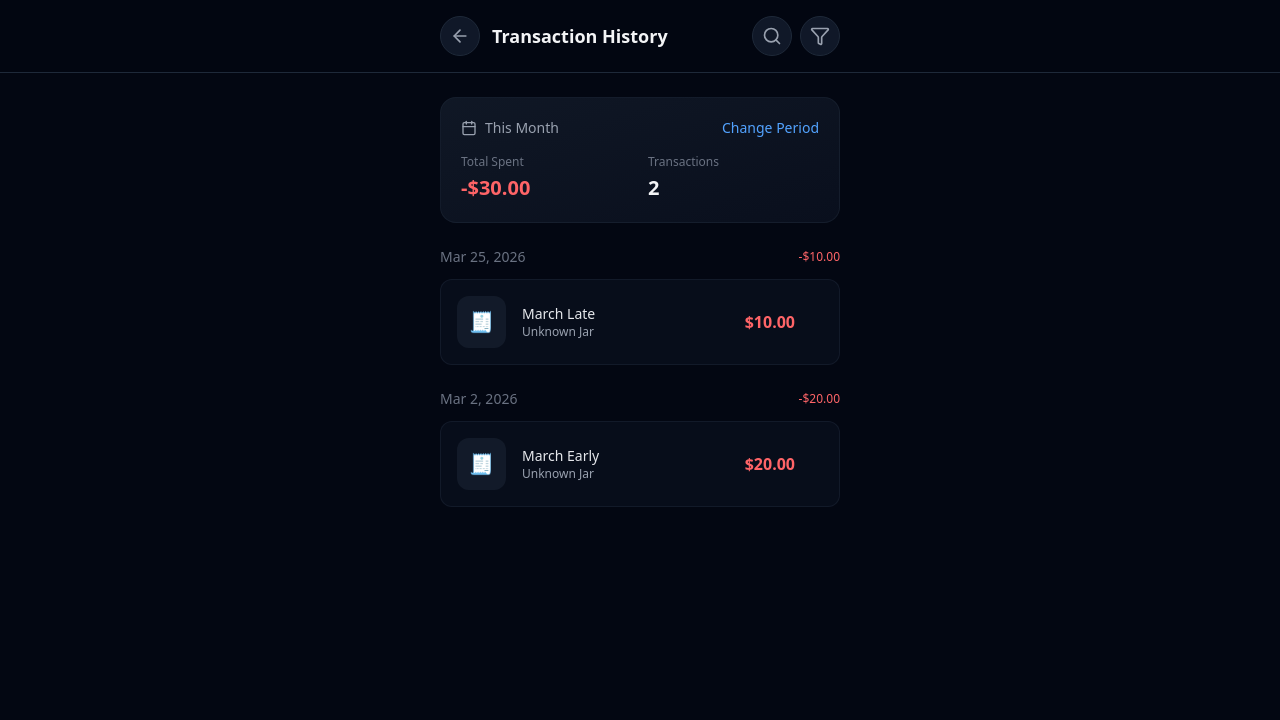
Scenario: TransactionHistory period selection › keeps the previously applied period visible until a custom range is applied
Step 1. Click the button "Change Period" → (770, 128), box x1=722 y1=118 x2=819 y2=138
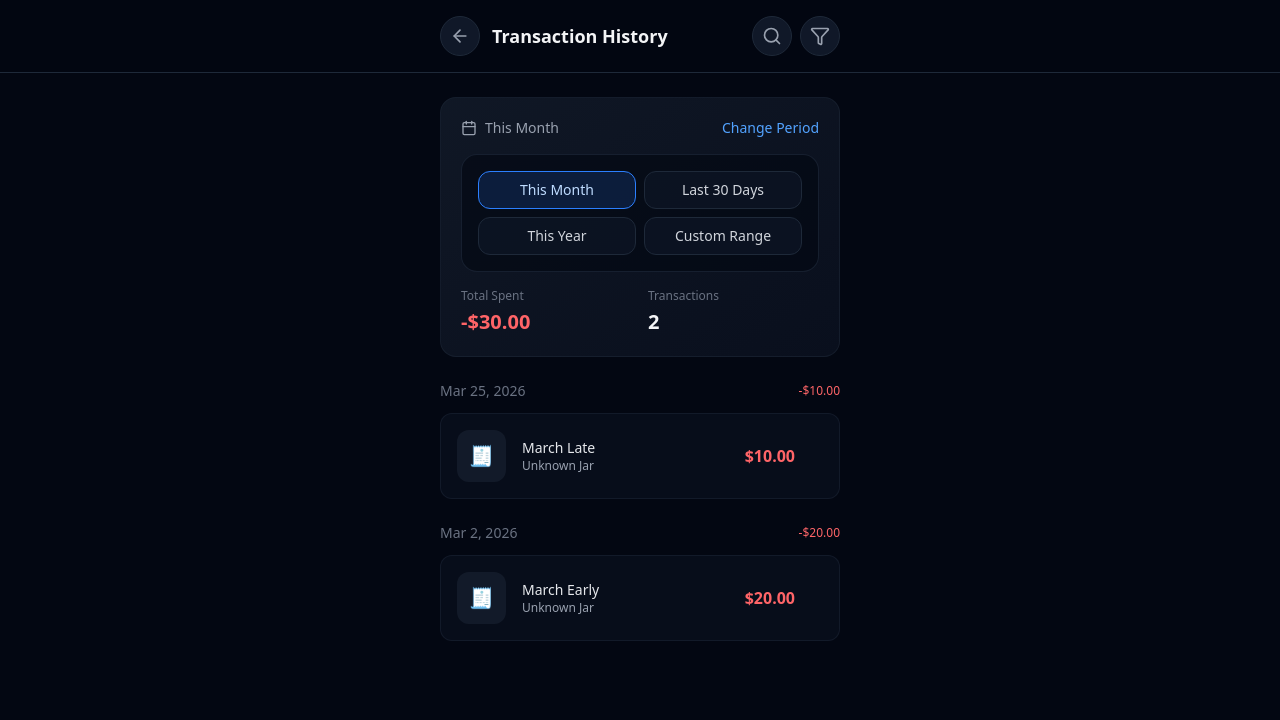
Step 2. Click the button "Custom Range" → (723, 236), box x1=644 y1=217 x2=802 y2=255
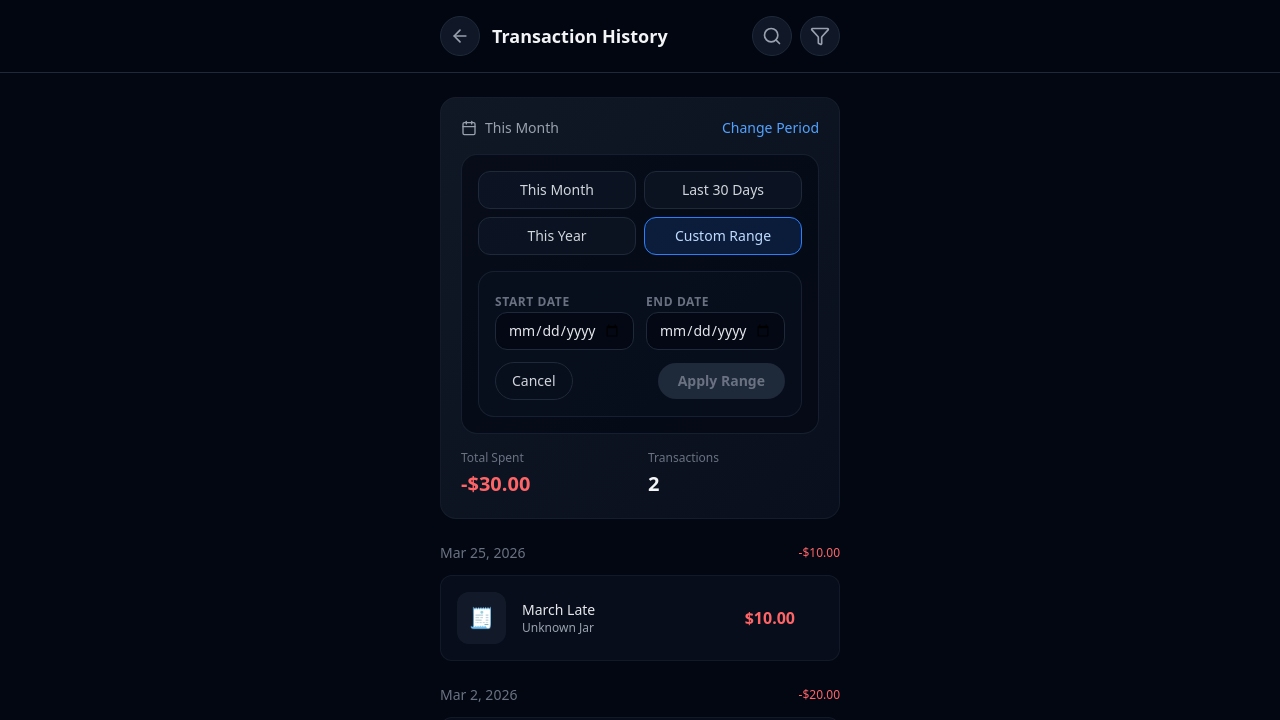
Expected: the text "This Month" is shown 2 times, x1=485 y1=118 x2=559 y2=138; x1=478 y1=171 x2=636 y2=209
Expected: the heading "March Late" is shown, x1=522 y1=600 x2=595 y2=620
Step 3. Type "2026-01-01" into the date field labelled "Start Date" → (564, 331), box x1=495 y1=312 x2=634 y2=350
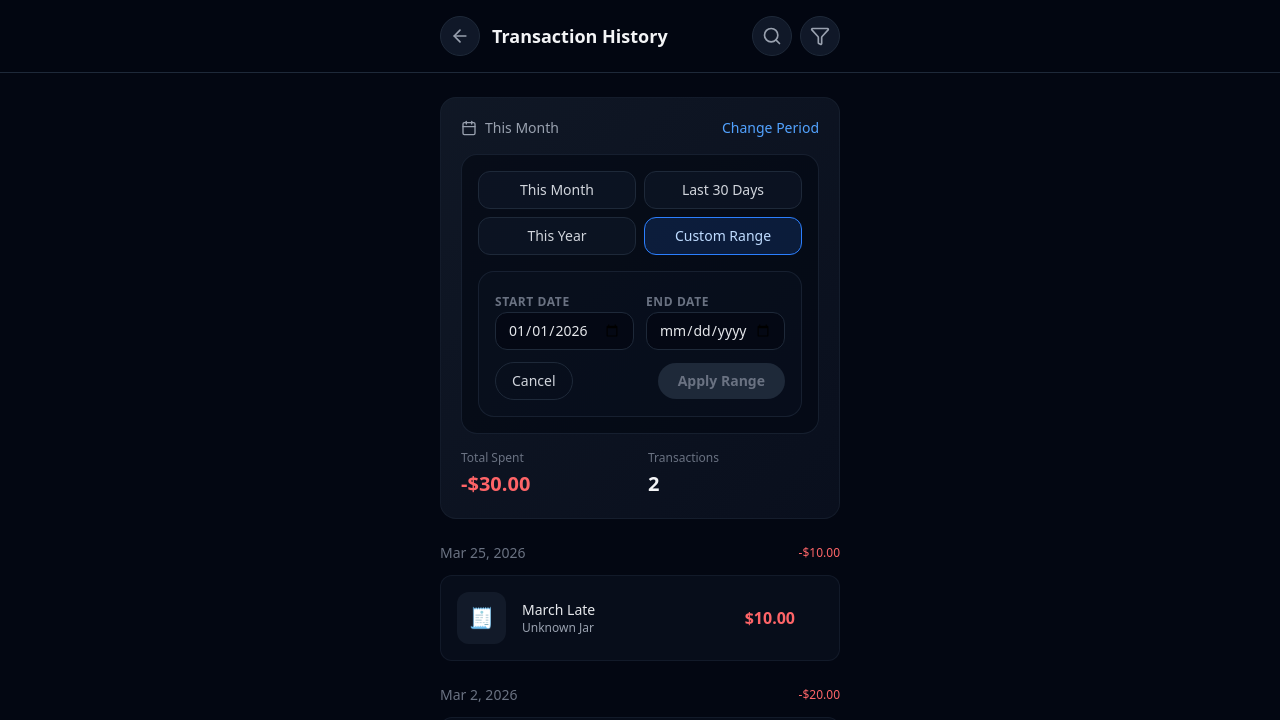
Step 4. Type "2026-01-31" into the date field labelled "End Date" → (716, 331), box x1=646 y1=312 x2=785 y2=350
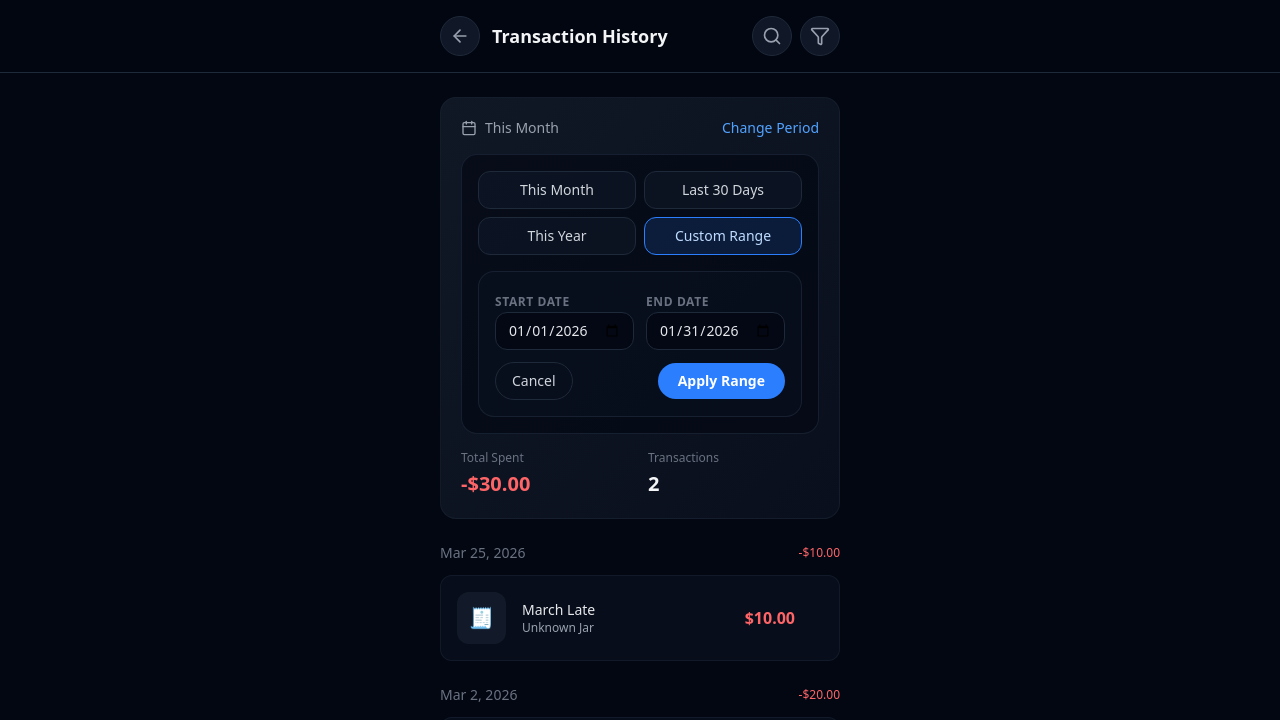
Expected: the text "This Month" is shown 2 times, x1=485 y1=118 x2=559 y2=138; x1=478 y1=171 x2=636 y2=209
Expected: the heading "March Late" is shown, x1=522 y1=600 x2=595 y2=620
Step 5. Click the button "Apply Range" → (721, 381), box x1=658 y1=363 x2=785 y2=399
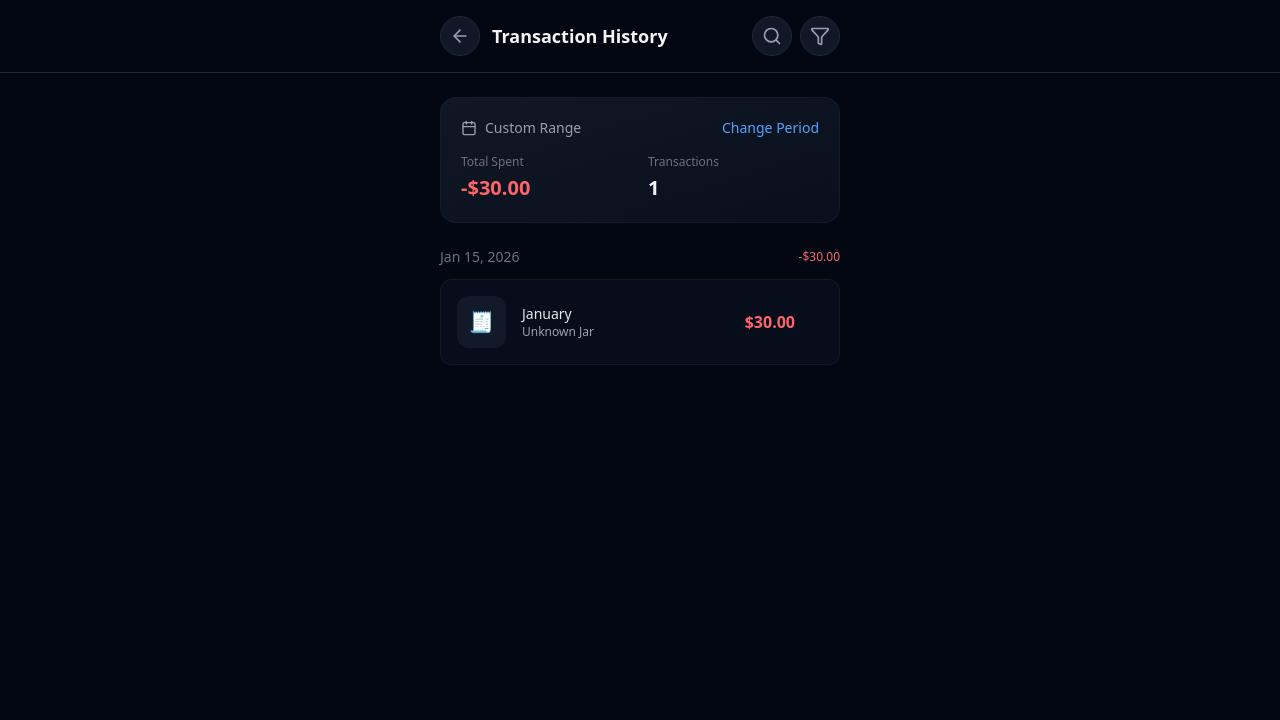
Expected: the text "Custom Range" is shown, x1=485 y1=118 x2=581 y2=138
Expected: the heading "January" is shown, x1=522 y1=304 x2=572 y2=323
Expected: the heading "March Late" is gone
